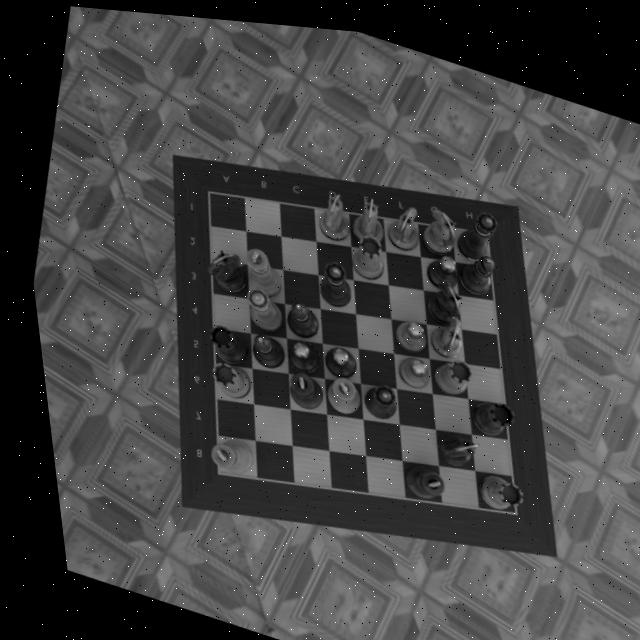chessboard: (205, 188, 504, 505)
